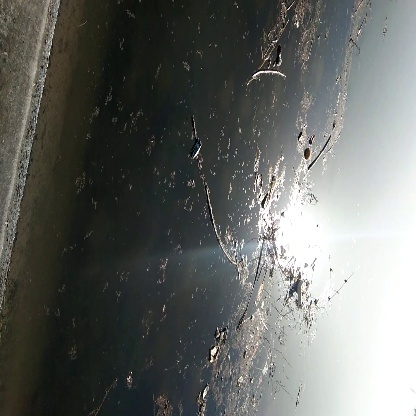branch: (198, 181, 249, 270)
